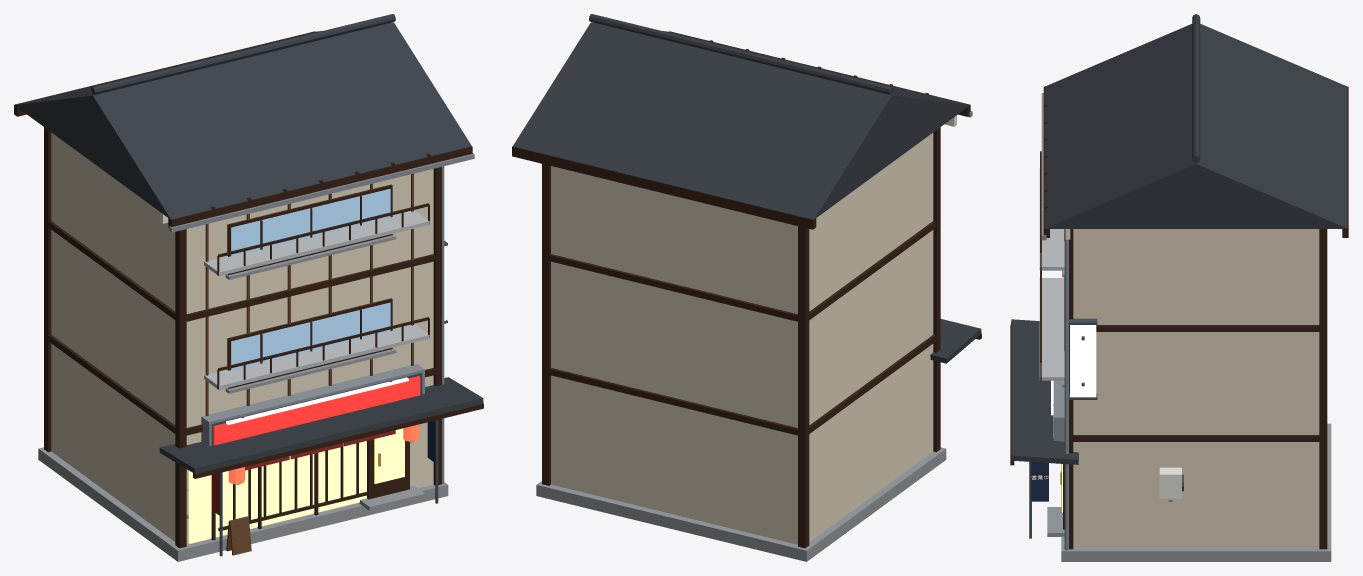
File: shop_ramen_3f.glb
The picture shows the model from 3 angles, left to right: view 1: azimuth 30°, elevation 25°; view 2: azimuth 150°, elevation 25°; view 3: azimuth 270°, elevation 25°; orthographic projection. The views are drawn at different scales.
Parts seen in each view (by area): view 1: body.006, roof.002, shop_glass.006, eave.002, base.006, win_glass.015, win_glass.012, sign_face.006, balcony_slab.015, balcony_slab.012, post.024, beam.020 (+21 smaller); view 2: body.006, roof.002, base.006, post.025, eave_back.002, beam.016, beam.020, post.027, ridge.002, post.024, eave.002; view 3: body.006, roof.002, eave.002, base.006, post.027, balcony_slab.012, blade_board.002, beam.016, beam.020, downpipe.002, ridge.002, post.026 (+6 smaller).
Boxes of the visible parts, x1=… form: body.006: x1=51, y1=132, x2=433, y2=544; roof.002: x1=15, y1=22, x2=471, y2=219; shop_glass.006: x1=188, y1=441, x2=366, y2=543; eave.002: x1=159, y1=377, x2=483, y2=473; base.006: x1=38, y1=447, x2=448, y2=561; win_glass.015: x1=231, y1=189, x2=390, y2=256; win_glass.012: x1=231, y1=302, x2=390, y2=370; sign_face.006: x1=213, y1=376, x2=420, y2=445; balcony_slab.015: x1=204, y1=210, x2=429, y2=276; balcony_slab.012: x1=204, y1=324, x2=429, y2=389; post.024: x1=175, y1=229, x2=186, y2=548; beam.020: x1=48, y1=221, x2=435, y2=321; body.006: x1=551, y1=133, x2=933, y2=544; roof.002: x1=513, y1=22, x2=969, y2=219; base.006: x1=536, y1=447, x2=946, y2=561; post.025: x1=798, y1=226, x2=809, y2=548; eave_back.002: x1=512, y1=146, x2=816, y2=229; beam.016: x1=549, y1=335, x2=936, y2=435; beam.020: x1=549, y1=221, x2=936, y2=321; post.027: x1=542, y1=164, x2=550, y2=485; ridge.002: x1=589, y1=14, x2=893, y2=94; post.024: x1=933, y1=127, x2=940, y2=452; eave.002: x1=930, y1=319, x2=981, y2=363; body.006: x1=1073, y1=229, x2=1319, y2=547; roof.002: x1=1045, y1=24, x2=1347, y2=228; eave.002: x1=1011, y1=319, x2=1078, y2=464; base.006: x1=1061, y1=423, x2=1331, y2=561; post.027: x1=1319, y1=229, x2=1327, y2=549; balcony_slab.012: x1=1039, y1=278, x2=1064, y2=380; blade_board.002: x1=1070, y1=325, x2=1096, y2=397; beam.016: x1=1073, y1=435, x2=1319, y2=441; beam.020: x1=1096, y1=325, x2=1319, y2=331; downpipe.002: x1=1064, y1=229, x2=1068, y2=550; ridge.002: x1=1192, y1=14, x2=1200, y2=162; post.026: x1=1069, y1=229, x2=1073, y2=549.
Size of the model in its own units: 8.5 by 11.45 by 8.5.
